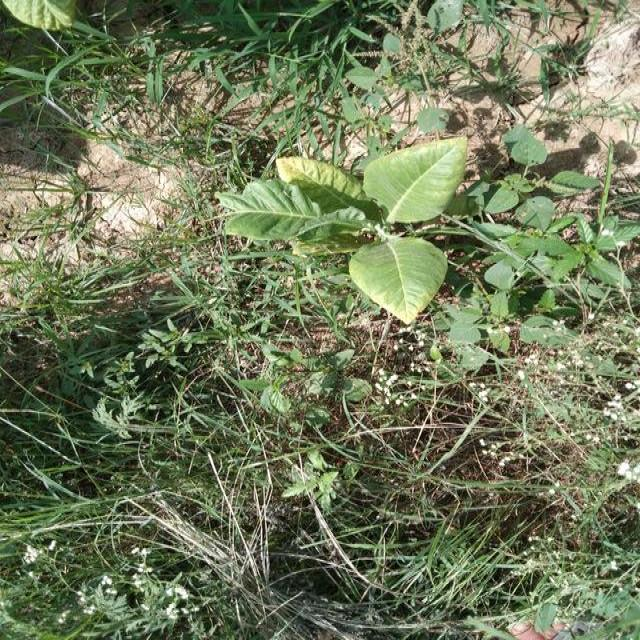crop: (217, 131, 467, 327)
